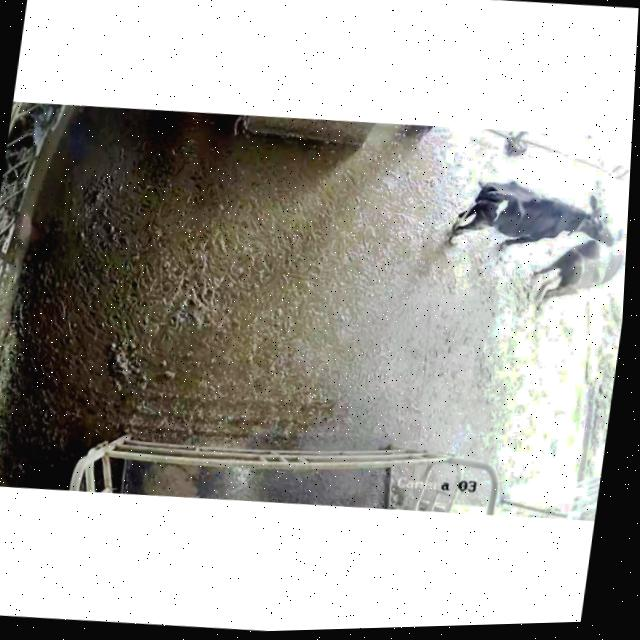propping: (553, 189, 629, 267)
